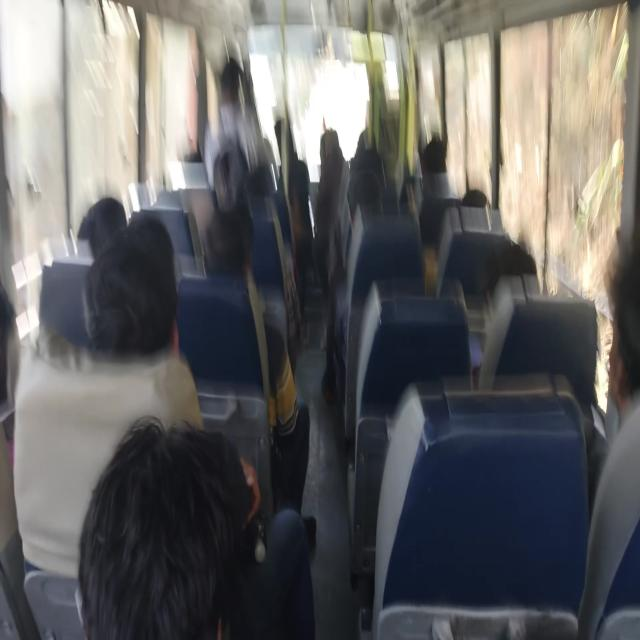person: (9, 107, 636, 638), (13, 212, 205, 578), (75, 413, 315, 639), (202, 200, 317, 546), (82, 212, 204, 430), (577, 226, 639, 638), (314, 122, 349, 404), (77, 195, 127, 261)
